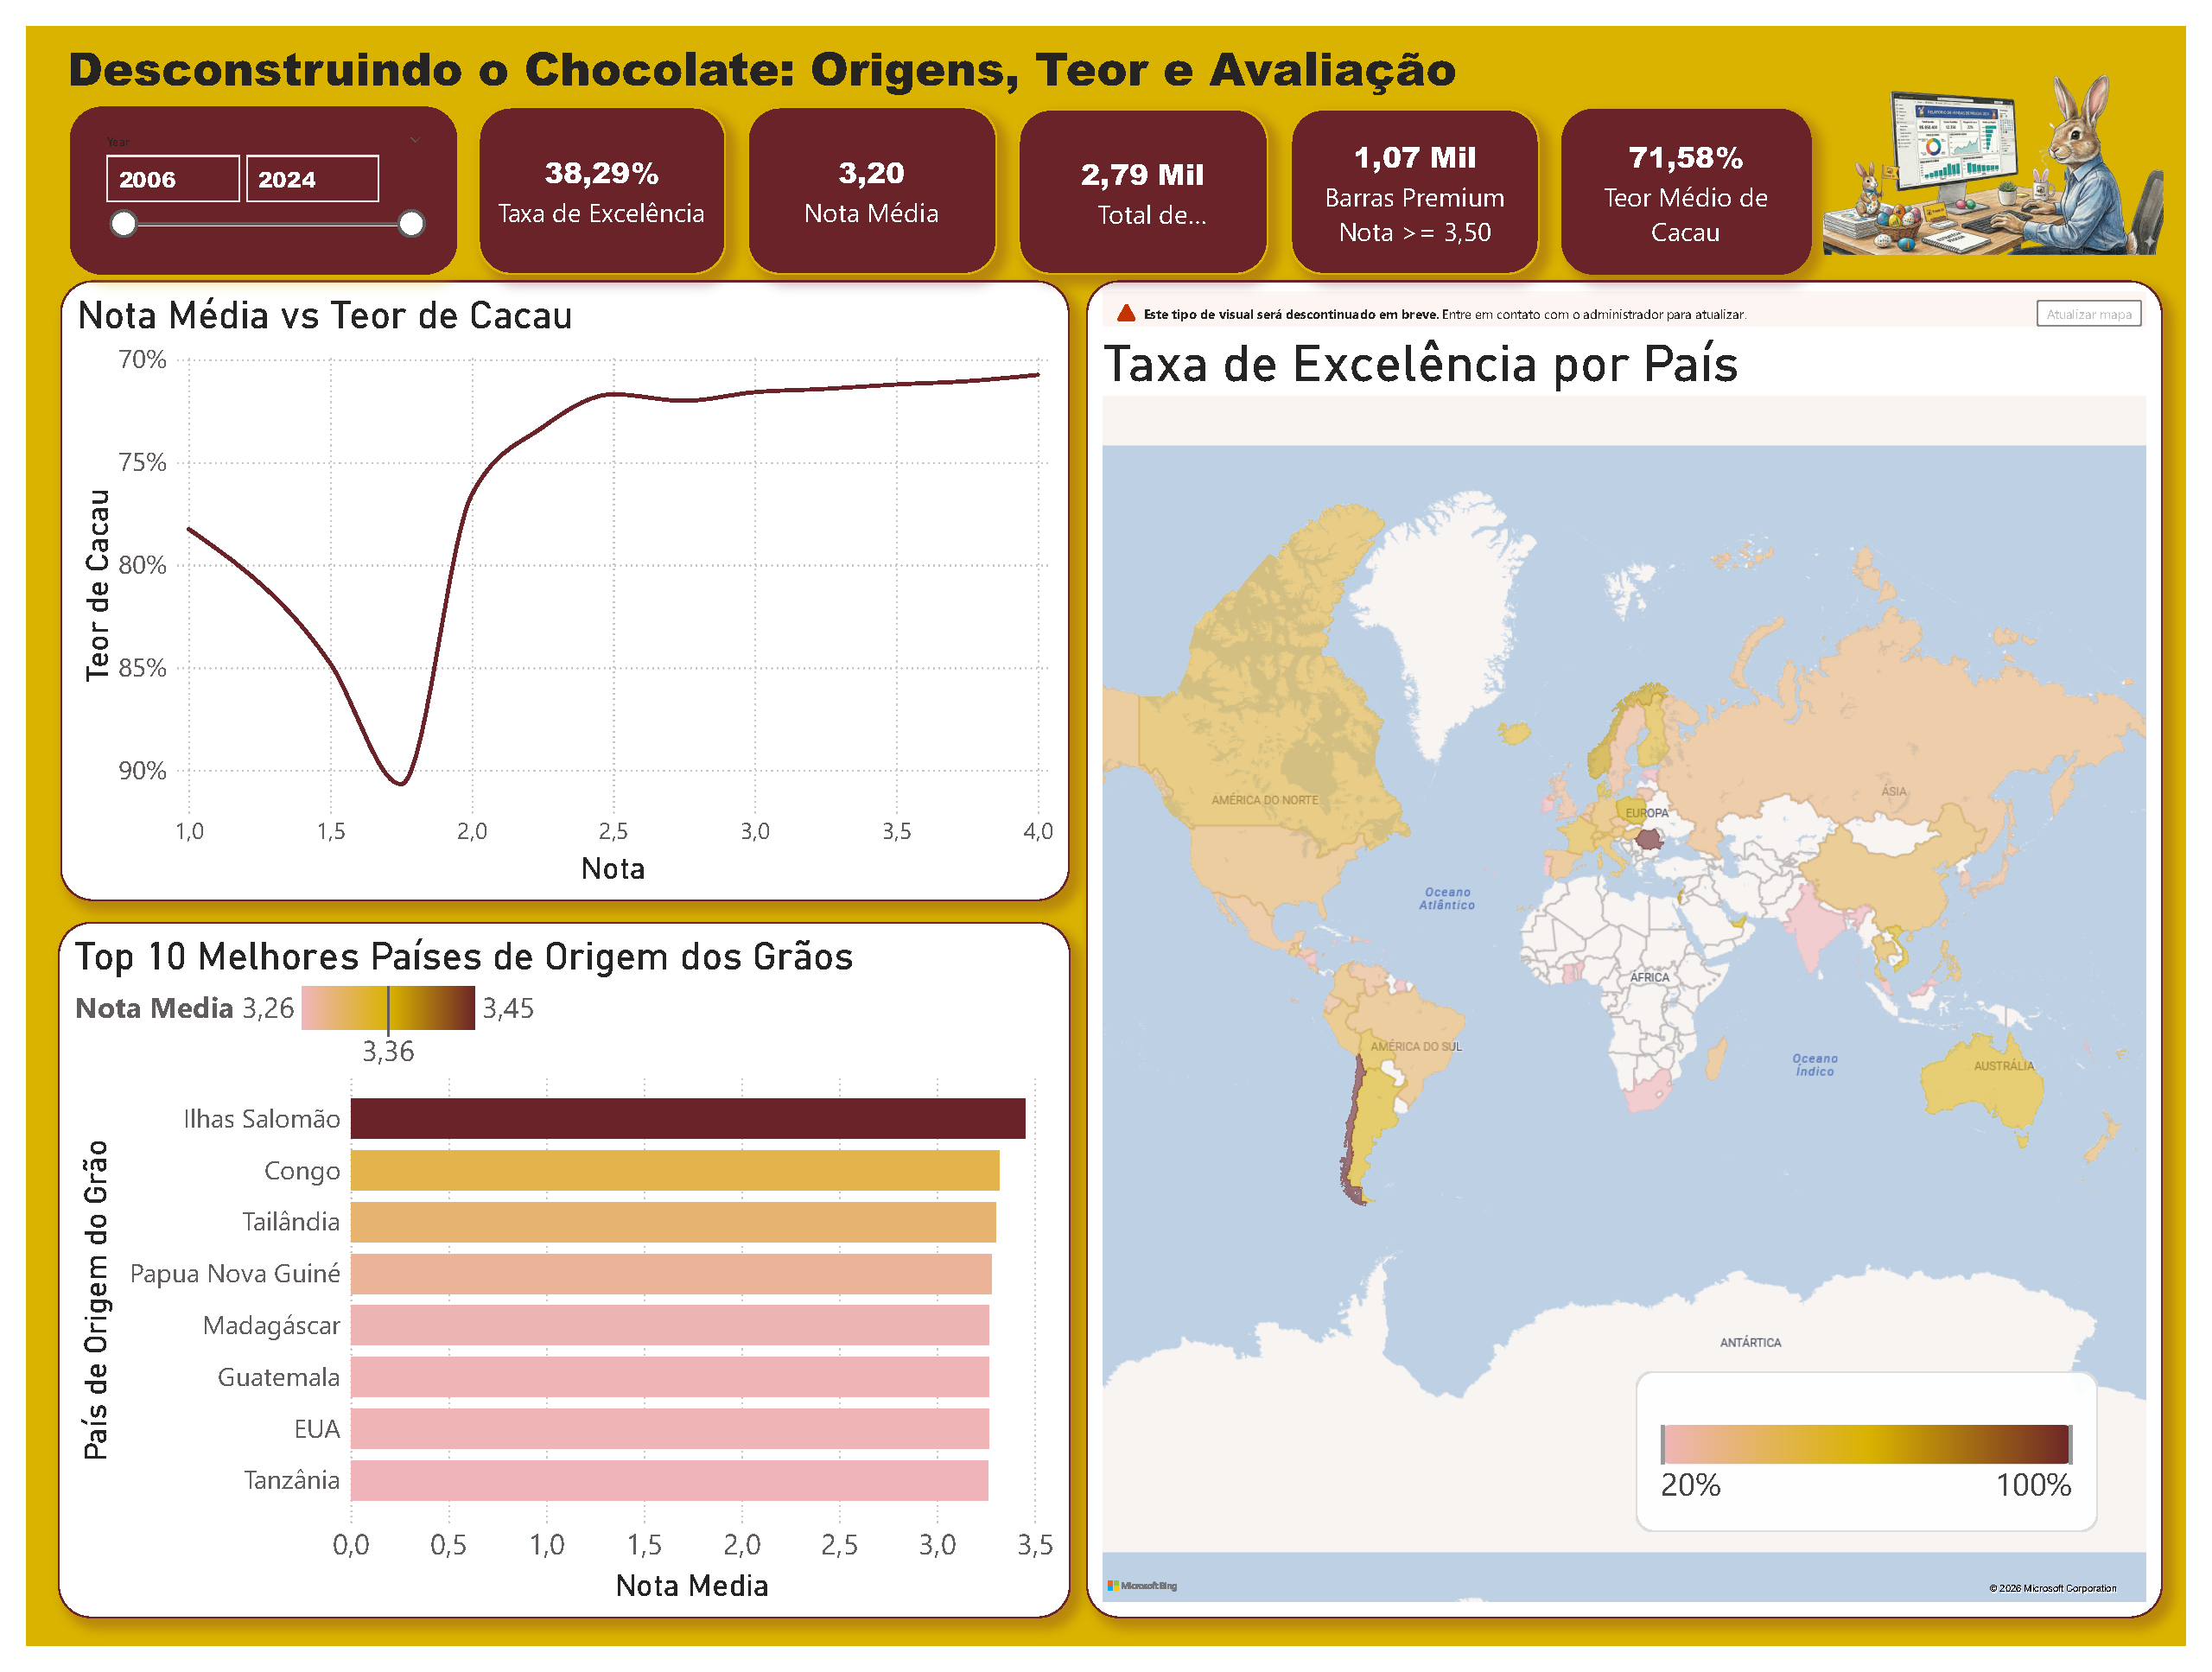

Layout of this report page (visuals, bound fields, positions):
{"tool":"powerbi","page":{"name":"Página 1","canvas":[2000,1500],"ordinal":0},"visuals":[{"type":"cardVisual","title":"Concentração Média de Cacau","fields":{"Data":["medidas.cacal medio"]},"box":[1421.9,76.8,230.9,153.2],"z":0,"group":"g1"},{"type":"cardVisual","title":"Total de Barras Premium","fields":{"Data":["medidas.total barras premium"]},"box":[1170.7,76.8,230.9,153.2],"z":1000,"group":"g1"},{"type":"barChart","title":"Top 10 Melhores Países de Origem dos Grãos","fields":{"Category":["flavors_of_cacao_2006_2024_processed.Country of Bean Origin PT"],"Y":["medidas.Nota Media"]},"box":[30,830.3,937,643.6],"z":1500},{"type":"cardVisual","title":"Total de Avaliações","fields":{"Data":["medidas.Total Avaliacoes"]},"box":[919.4,76.8,230.9,153.2],"z":2000,"group":"g1"},{"type":"cardVisual","title":"Nota Média","fields":{"Data":["medidas.Nota Media"]},"box":[668.1,74.6,230.9,155.4],"z":3000,"group":"g1"},{"type":"cardVisual","title":"Taxa de Exelência","fields":{"Data":["medidas.Taxa de Excelencia (%)"]},"box":[419.1,74.6,228.7,155.4],"z":4000,"group":"g1"},{"type":"lineChart","title":"Nota Média vs Teor de Cacau","fields":{"Category":["flavors_of_cacao_2006_2024_processed.Rating"],"Y":["medidas.cacau medio"]},"box":[32,236,934,574],"z":4000},{"type":"filledMap","title":"Taxa de Excelência por País","fields":{"Category":["flavors_of_cacao_2006_2024_processed.Company Location"]},"box":[982,236,996,1238],"z":5000},{"type":"group","id":"g1","title":"KPIs","box":[419.1,74.6,1233.7,155.4],"z":5500},{"type":"slicer","fields":{"Values":["flavors_of_cacao_2006_2024_processed.Year"]},"box":[41.3,74.6,357.5,155.4],"z":5750},{"type":"image","box":[1480,1245.7,448.6,148.6],"z":5937},{"type":"image","box":[1664.1,17.9,314.4,217.3],"z":6125},{"type":"textbox","title":"Título","box":[33.2,2.6,1301.1,71.6],"z":6501}]}

Visuals, with their boxes in screenshot pixels (x1, y1, x2, y2), scaled from the page's 2000x1500 canvas onto the 2212x1672 screenshot:
"Concentração Média de Cacau" cardVisual: x1=1573, y1=86, x2=1828, y2=257
"Total de Barras Premium" cardVisual: x1=1294, y1=86, x2=1550, y2=257
"Top 10 Melhores Países de Origem dos Grãos" barChart: x1=33, y1=925, x2=1070, y2=1643
"Total de Avaliações" cardVisual: x1=1017, y1=86, x2=1272, y2=257
"Nota Média" cardVisual: x1=739, y1=83, x2=995, y2=257
"Taxa de Exelência" cardVisual: x1=463, y1=83, x2=716, y2=257
"Nota Média vs Teor de Cacau" lineChart: x1=35, y1=263, x2=1068, y2=903
"Taxa de Excelência por País" filledMap: x1=1086, y1=263, x2=2188, y2=1643
"KPIs" group: x1=463, y1=83, x2=1828, y2=257
slicer - flavors_of_cacao_2006_2024_processed.Year: x1=46, y1=83, x2=441, y2=257
image: x1=1637, y1=1389, x2=2133, y2=1554
image: x1=1840, y1=20, x2=2188, y2=262
"Título" textbox: x1=36, y1=3, x2=1476, y2=83
